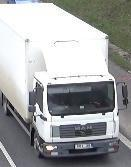Truck: (0, 4, 120, 160)
